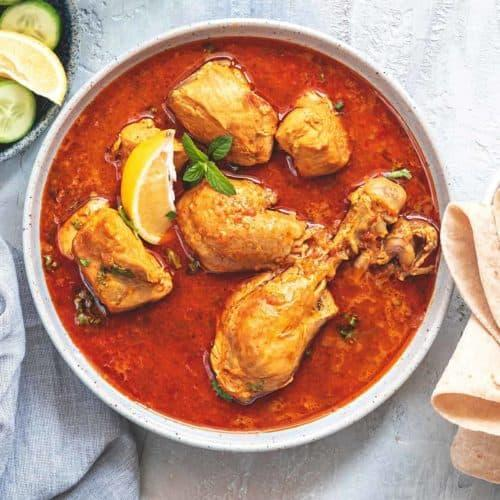chicken: (41, 38, 456, 450)
